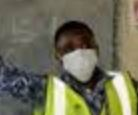with_facemask: (65, 55, 97, 78)
